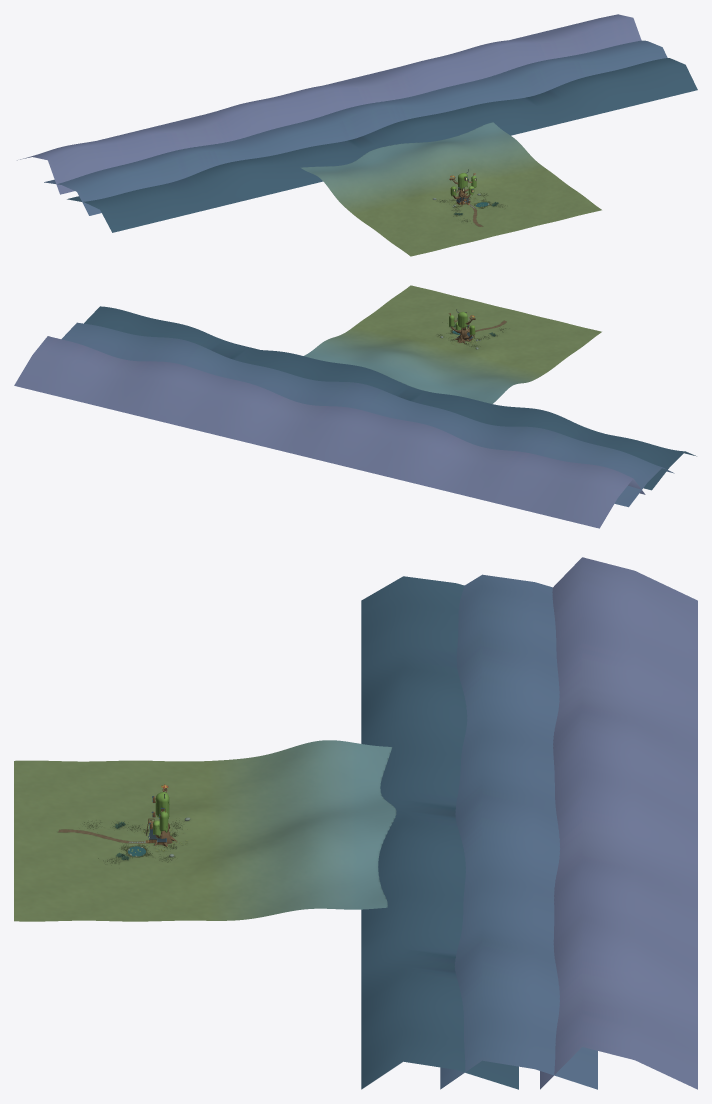
File: treehouse-final.glb
3 renders of one model, top to bottom at view 1: azimuth 30°, elevation 25°; view 2: azimuth 150°, elevation 25°; view 3: azimuth 270°, elevation 25°, orthographic. The views are drawn at different scales.
Visible parts, largest first — view 1: Environment; view 2: Environment; view 3: Environment.
Part boxes in pixels (x1,y1,x2,y2): Environment: [17, 14, 697, 256]; Environment: [14, 285, 696, 528]; Environment: [14, 557, 697, 1089].
Bounding box in the file's own units: 220 × 11.73 × 130.
Materials: 40 (1 with a texture image).
